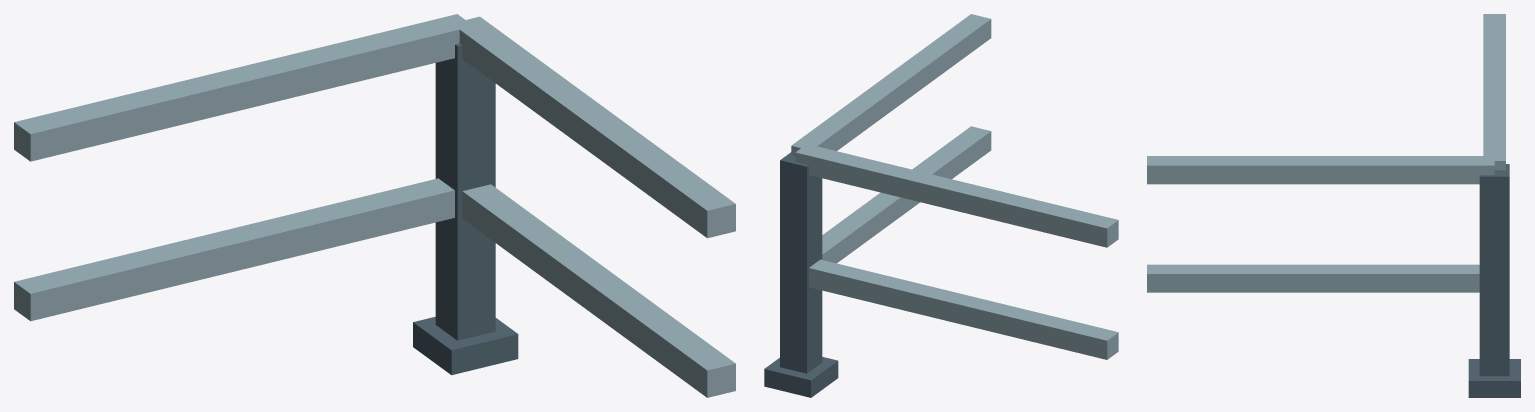
Rendered from rail_corner.glb.
3 views of the same model, side by side, from view 1: azimuth 30°, elevation 25°; view 2: azimuth 150°, elevation 25°; view 3: azimuth 270°, elevation 25° (orthographic). The views are drawn at different scales.
Visible parts, largest first — view 1: NorthRail.001, NorthRail, EastRail.001, EastRail, Post, Foot; view 2: NorthRail.001, NorthRail, Post, EastRail.001, EastRail, Foot; view 3: EastRail.001, EastRail, Post, NorthRail.001, Foot.
Boxes of the visible parts, x1,y1,x2,y2 form: NorthRail.001: (14, 14, 471, 161); NorthRail: (14, 178, 454, 321); EastRail.001: (451, 16, 735, 238); EastRail: (462, 184, 735, 397); Post: (435, 43, 495, 340); Foot: (413, 316, 518, 375); NorthRail.001: (795, 144, 1118, 247); NorthRail: (809, 259, 1118, 359); Post: (780, 152, 822, 373); EastRail.001: (791, 14, 991, 156); EastRail: (822, 126, 991, 263); Foot: (764, 357, 838, 397); EastRail.001: (1147, 156, 1494, 184); EastRail: (1147, 264, 1479, 292); Post: (1479, 164, 1509, 376); NorthRail.001: (1483, 14, 1505, 170); Foot: (1468, 359, 1520, 397).
Size of the model in its own units: 2 by 1.33 by 2.
